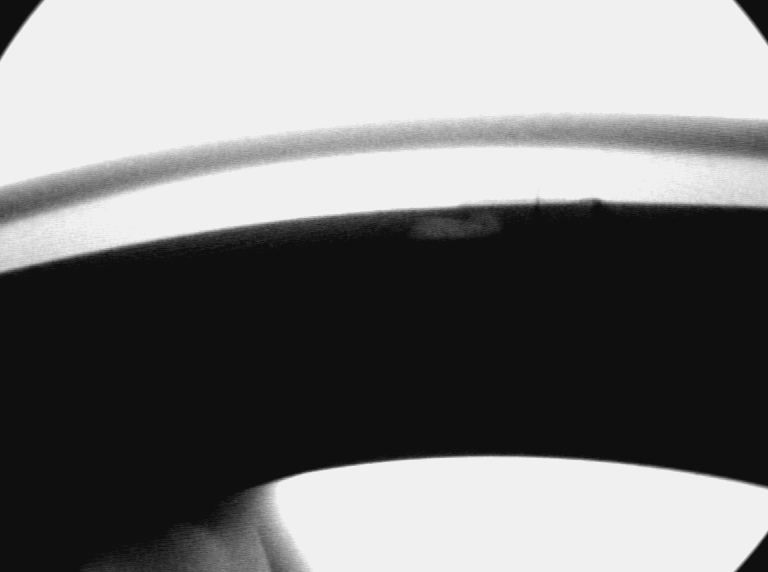defect: (406, 211, 504, 243)
